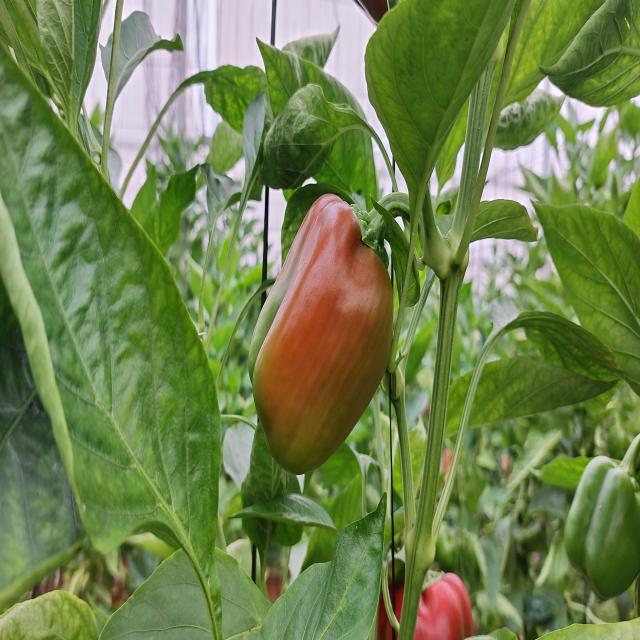BrownishRed--Can-be-Harvested: (242, 190, 395, 474)
